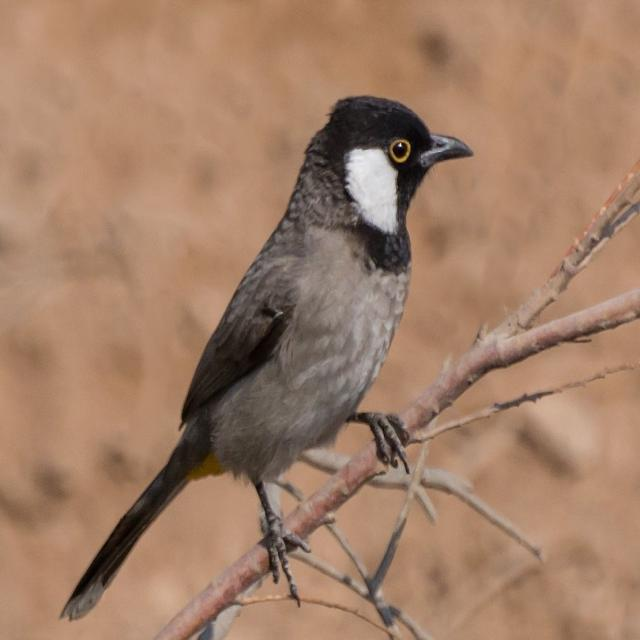bird: (36, 93, 482, 626)
